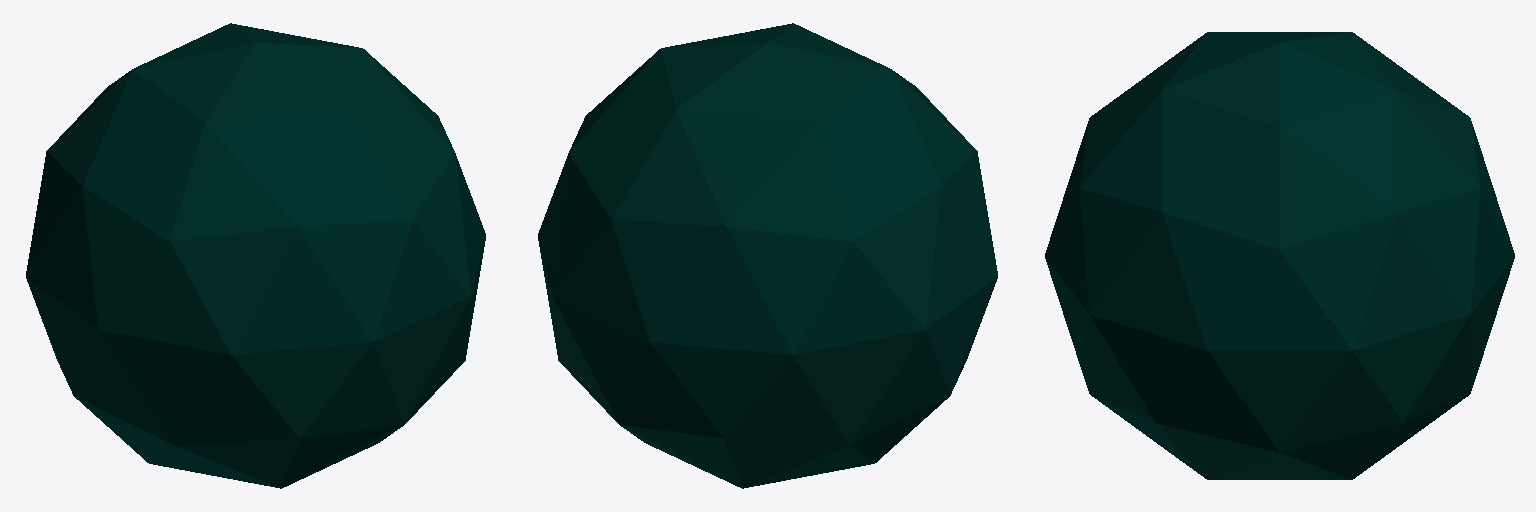
File: Labyrinth3D_PlayerIco_Textured.obj
The picture shows the model from 3 angles: view 1: azimuth 30°, elevation 25°; view 2: azimuth 150°, elevation 25°; view 3: azimuth 270°, elevation 25°; orthographic projection.
Visible parts, largest first — view 1: Icosphere; view 2: Icosphere; view 3: Icosphere.
Boxes of the visible parts, x1=… form: Icosphere: x1=26, y1=23, x2=485, y2=488; Icosphere: x1=538, y1=23, x2=997, y2=488; Icosphere: x1=1045, y1=32, x2=1514, y2=479.
Size of the model in its own units: 1.9 by 2 by 2.